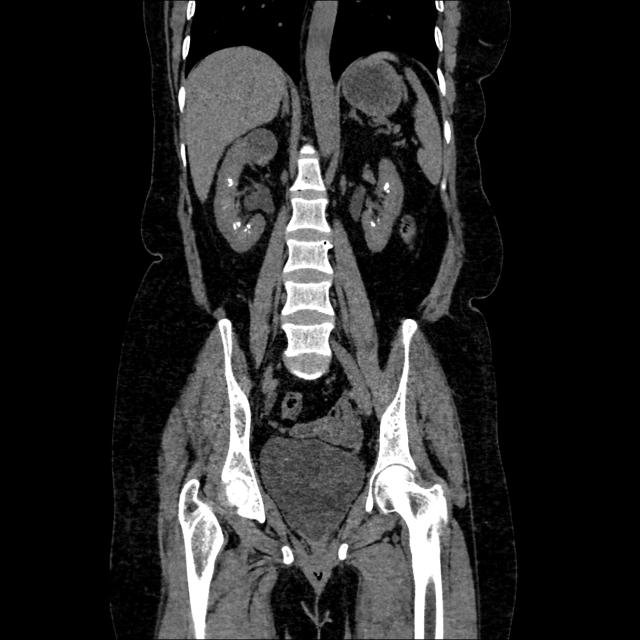kidney: (220, 126, 264, 248), (372, 164, 396, 246)
stone: (228, 178, 233, 186), (233, 223, 241, 228), (385, 183, 388, 191), (371, 223, 376, 226), (248, 225, 250, 229)
